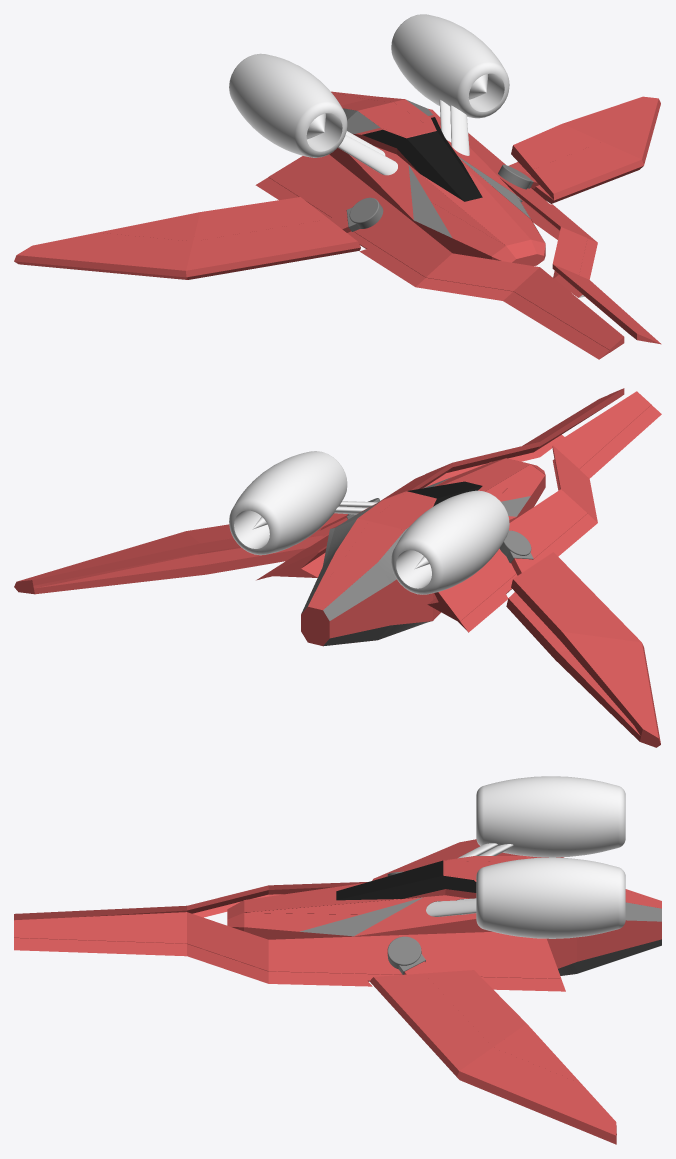
File: Fighter.ver2.fbx
3 views of the same model, one above another, from view 1: azimuth 30°, elevation 25°; view 2: azimuth 150°, elevation 25°; view 3: azimuth 270°, elevation 25° (orthographic). The views are drawn at different scales.
Parts seen in each view (by area): view 1: Body1 (×5), ボディ2 (2), ボディ2, Body5; view 2: Body1 (×5), ボディ2 (2), ボディ2, Body5; view 3: Body1 (×5), ボディ2, ボディ2 (2), Body24.
Part boxes in pixels (left/top/right/bottom): Body1 (×5): left=14, top=14, right=660, bottom=279; ボディ2 (2): left=255, top=154, right=624, bottom=359; ボディ2: left=468, top=133, right=661, bottom=344; Body5: left=346, top=197, right=383, bottom=231; Body1 (×5): left=14, top=451, right=660, bottom=747; ボディ2 (2): left=427, top=391, right=661, bottom=632; ボディ2: left=256, top=388, right=624, bottom=580; Body5: left=499, top=530, right=533, bottom=563; Body1 (×5): left=227, top=776, right=661, bottom=1144; ボディ2: left=14, top=912, right=565, bottom=991; ボディ2 (2): left=14, top=882, right=367, bottom=920; Body24: left=387, top=936, right=425, bottom=974.
Bounding box in the file's own units: 226 × 53.35 × 191.
